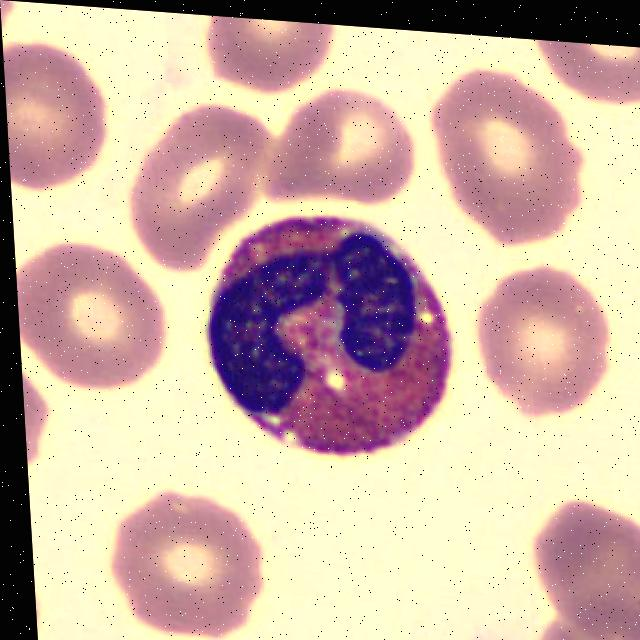eosinophil: (195, 208, 469, 485)
rbc: (113, 95, 282, 276), (98, 473, 281, 640), (432, 70, 590, 256), (472, 254, 633, 434), (252, 72, 440, 217), (14, 236, 172, 402), (3, 39, 115, 203), (531, 495, 640, 640), (184, 14, 352, 101), (21, 352, 67, 524), (536, 40, 640, 112), (521, 607, 640, 640), (0, 0, 24, 61), (33, 560, 47, 640)
